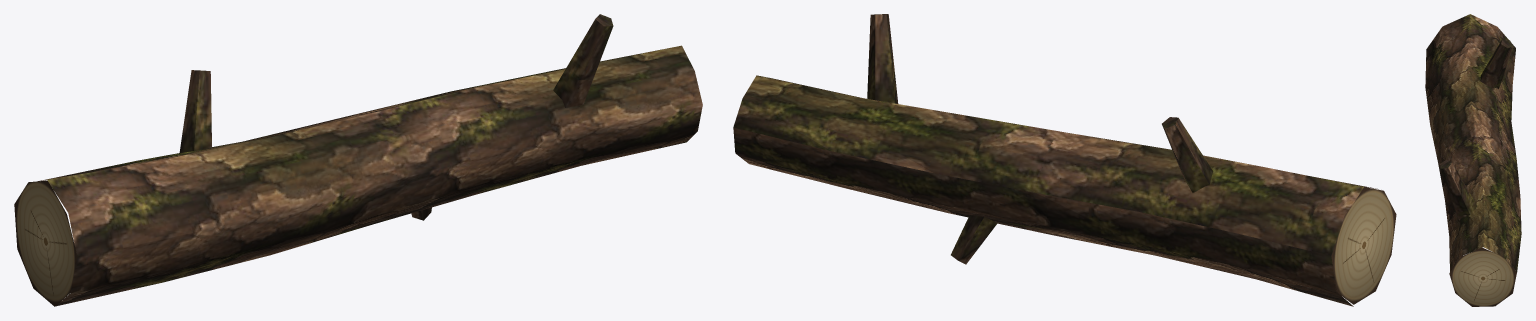
Rendered from tree_felled_log.glb.
3 renders of one model, left to right at view 1: azimuth 30°, elevation 25°; view 2: azimuth 150°, elevation 25°; view 3: azimuth 270°, elevation 25°, orthographic. The views are drawn at different scales.
Visible parts, largest first — view 1: tree_felled_log; view 2: tree_felled_log; view 3: tree_felled_log.
Part boxes in pixels (box(x1,y1,x2,y2)): tree_felled_log: box(14, 14, 702, 306); tree_felled_log: box(733, 14, 1396, 306); tree_felled_log: box(1425, 14, 1521, 306).
Bounding box in the file's own units: 3.63 × 1.11 × 0.6883.
2 materials, 2 textured.
